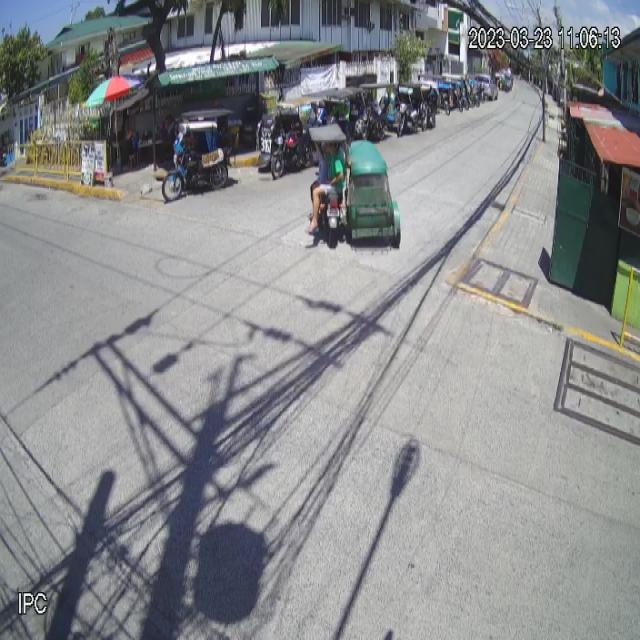Tricycle: (304, 123, 402, 252), (160, 106, 240, 202)
